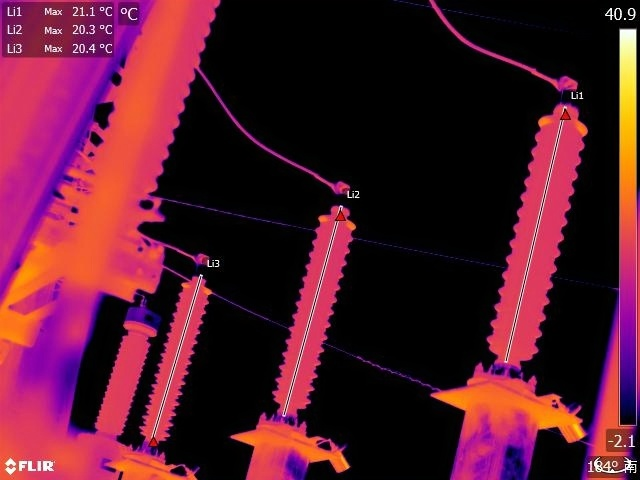current transformer: (88, 289, 159, 442)
lightning arrester: (470, 58, 607, 393), (257, 167, 354, 436), (135, 250, 224, 460)
